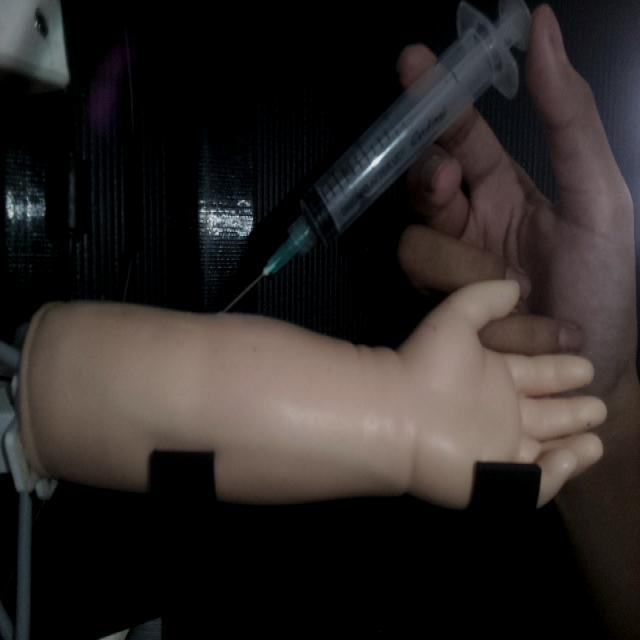Above 30 degrees: (218, 0, 536, 317)
